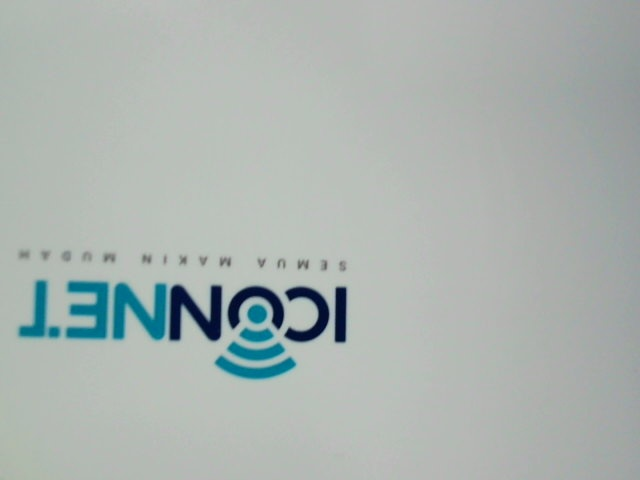BM_ICONNET: (8, 234, 363, 387)
